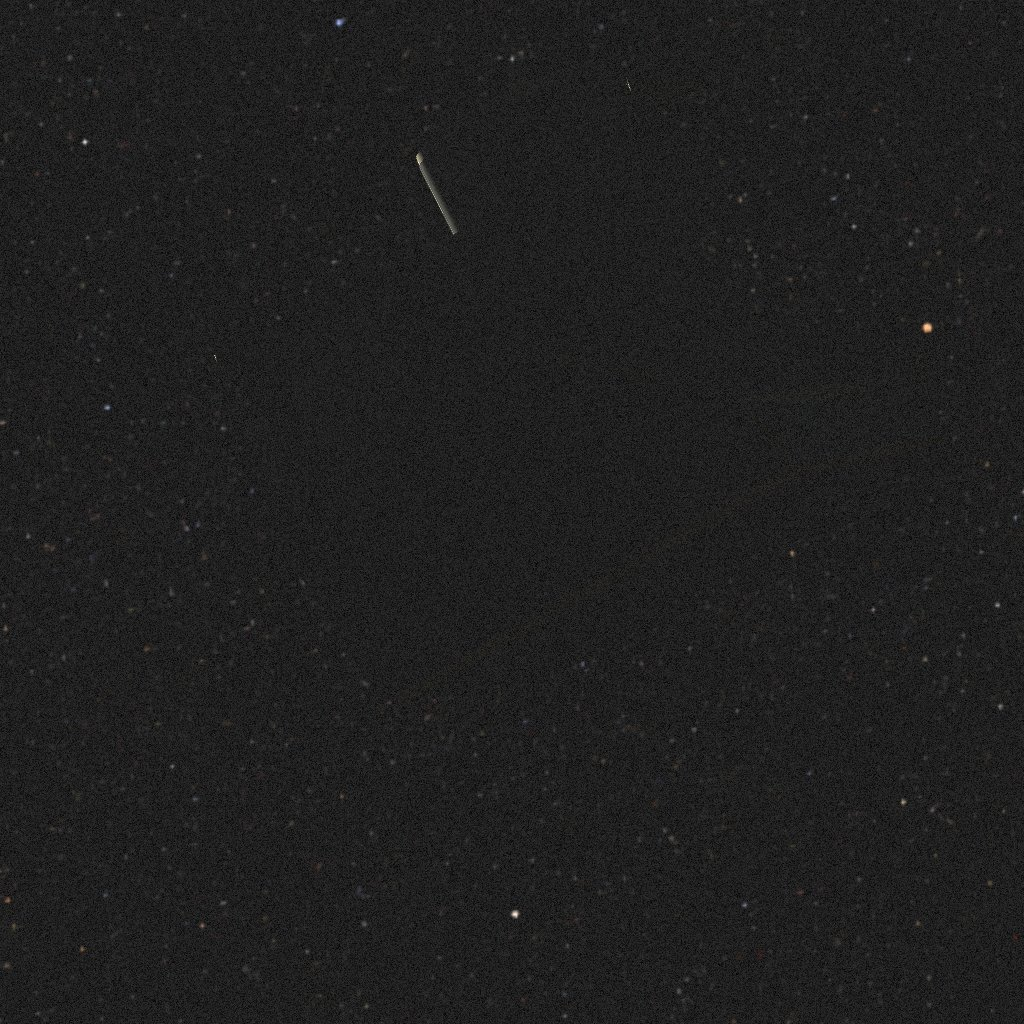cheops: (206, 50, 947, 709)
